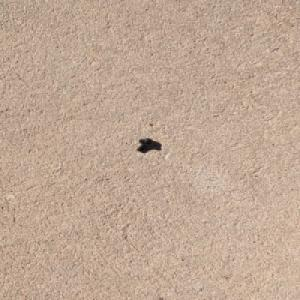BoltWasher: (135, 138, 155, 151)
